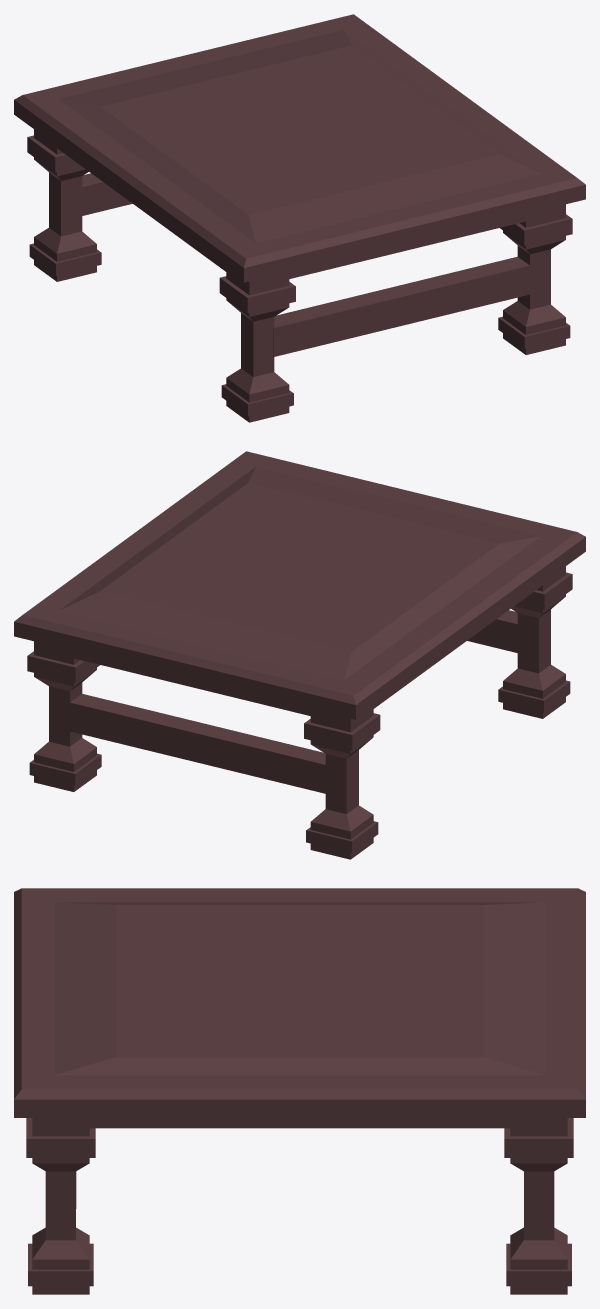
The model's file is smalltable.fbx.
The picture shows the model from 3 angles, top to bottom: view 1: azimuth 30°, elevation 25°; view 2: azimuth 150°, elevation 25°; view 3: azimuth 270°, elevation 25°; orthographic projection. The views are drawn at different scales.
Visible parts, largest first — view 1: smalltable; view 2: smalltable; view 3: smalltable.
Part boxes in pixels (x1=…): smalltable: x1=14, y1=14, x2=585, y2=422; smalltable: x1=14, y1=451, x2=585, y2=859; smalltable: x1=14, y1=888, x2=585, y2=1294.
Size of the model in its own units: 1.7 by 0.8328 by 1.98.
